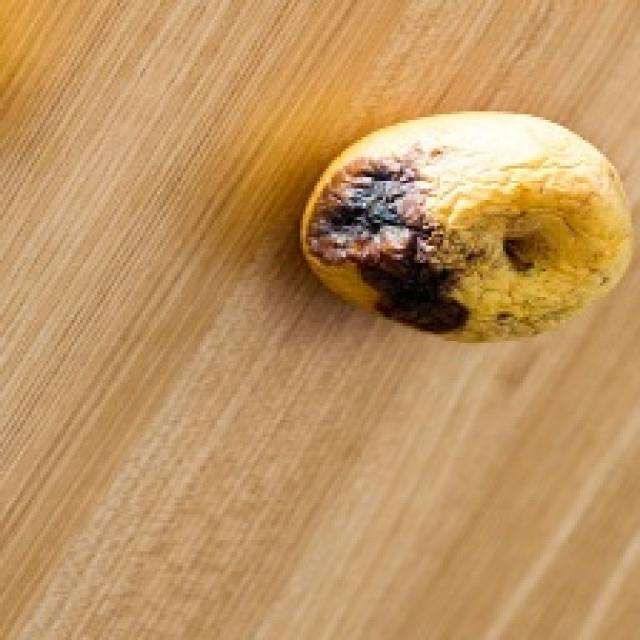rotten_apple: (307, 114, 630, 340)
